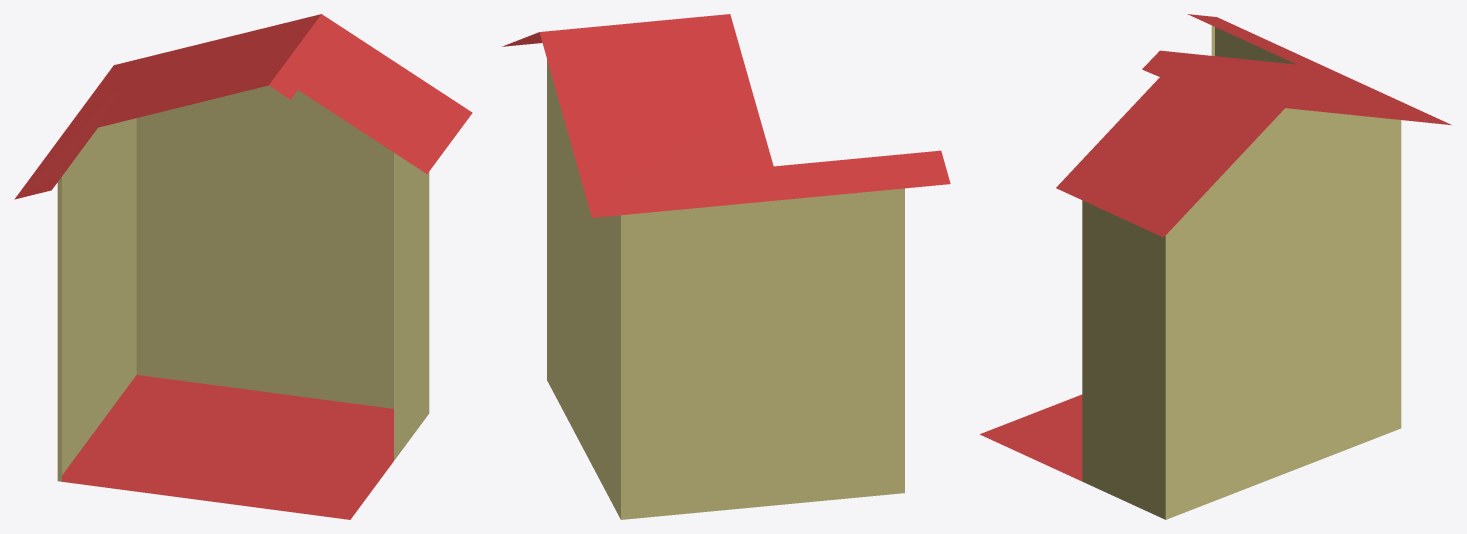
3 views of the same model, side by side, from view 1: azimuth 30°, elevation 25°; view 2: azimuth 150°, elevation 25°; view 3: azimuth 270°, elevation 25° (orthographic). The views are drawn at different scales.
Parts seen in each view (by area): view 1: group_5, group_6, group_3, group_4; view 2: group_5, group_3, group_4; view 3: group_5, group_3, group_6, group_4.
Part boxes in pixels (bbox=[...]): group_5: bbox=[57, 85, 429, 481]; group_6: bbox=[62, 375, 393, 519]; group_3: bbox=[14, 14, 472, 199]; group_4: bbox=[27, 19, 470, 187]; group_5: bbox=[547, 59, 904, 519]; group_3: bbox=[501, 14, 950, 217]; group_4: bbox=[519, 41, 936, 217]; group_5: bbox=[1082, 25, 1401, 519]; group_3: bbox=[1056, 14, 1451, 237]; group_6: bbox=[980, 394, 1082, 481]; group_4: bbox=[1061, 18, 1449, 235].
Size of the model in its own units: 10.79 by 9.78 by 8.81.
